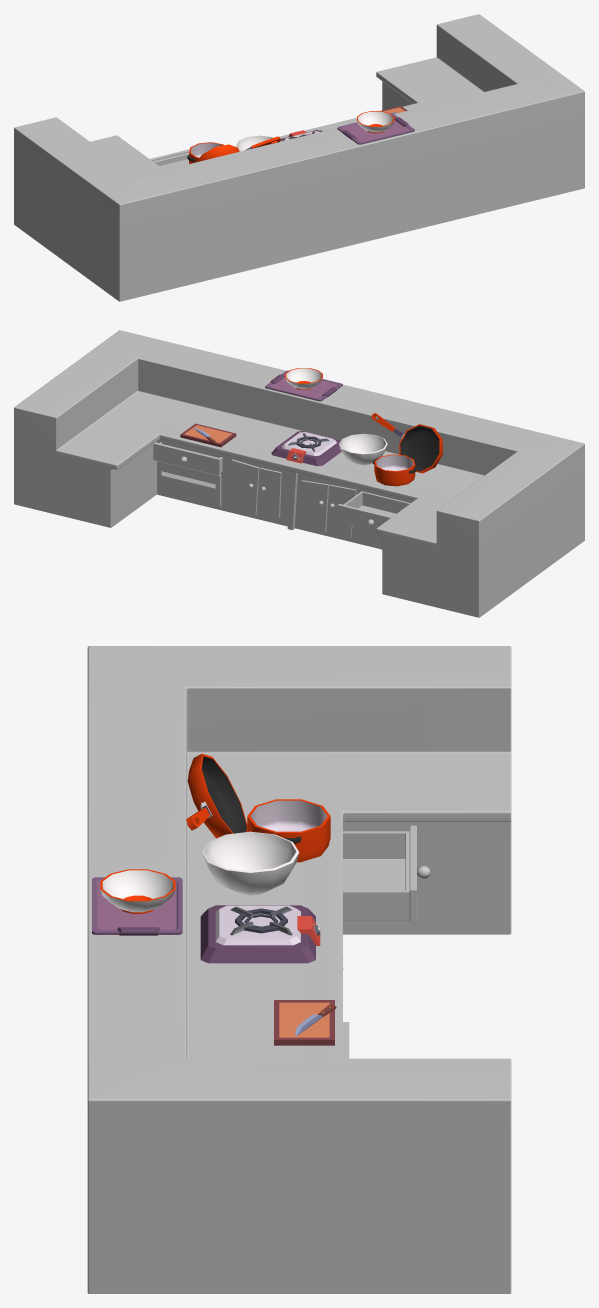
The picture shows the model from 3 angles, top to bottom: view 1: azimuth 30°, elevation 25°; view 2: azimuth 150°, elevation 25°; view 3: azimuth 270°, elevation 25°; orthographic projection. The views are drawn at different scales.
Visible parts, largest first — view 1: polySurface30, polySurface50, pDisc2, polySurface26; view 2: polySurface30, polySurface26, pCylinder8, polySurface9, polySurface23, polySurface50, pCube3, pDisc2; view 3: polySurface30, pCylinder8, polySurface9, polySurface23, polySurface26, polySurface50, pDisc2, pCube3.
Boxes of the visible parts, x1,y1,x2,y2 form: polySurface30: (14, 14, 584, 301); polySurface50: (337, 114, 414, 144); pDisc2: (357, 111, 394, 133); polySurface26: (196, 136, 280, 162); polySurface30: (14, 330, 584, 617); polySurface26: (371, 413, 442, 473); pCylinder8: (271, 431, 341, 466); polySurface9: (339, 433, 387, 465); polySurface23: (373, 454, 416, 486); polySurface50: (265, 370, 342, 401); pCube3: (180, 423, 236, 447); pDisc2: (285, 368, 322, 389); polySurface30: (87, 646, 511, 1293); pCylinder8: (200, 905, 320, 963); polySurface9: (201, 831, 299, 895); polySurface23: (247, 799, 330, 862); polySurface26: (186, 753, 247, 838); polySurface50: (92, 877, 182, 934); pDisc2: (100, 869, 175, 913); pCube3: (274, 1000, 334, 1045).
Bounding box in the file's own units: 7.59 × 1.69 × 2.99.
